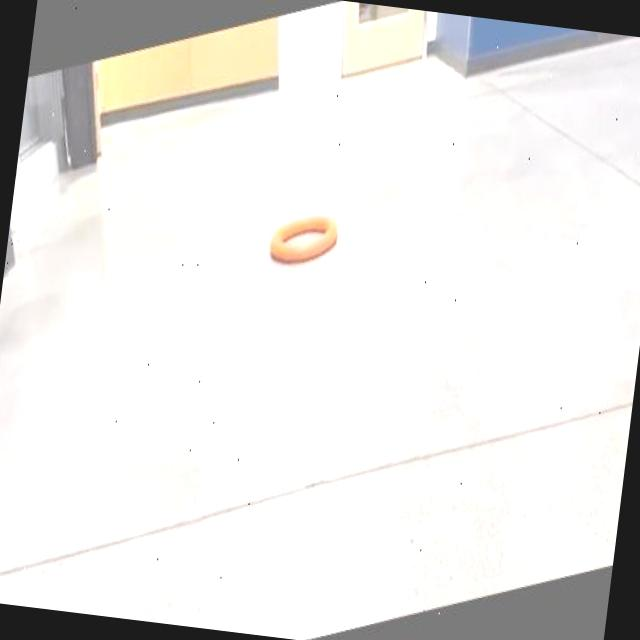note: (269, 213, 337, 261)
